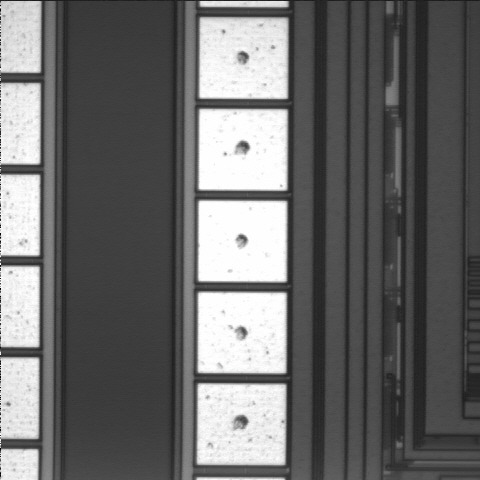pad: (198, 109, 288, 191), (199, 17, 288, 99), (197, 383, 286, 465), (198, 201, 287, 282), (198, 292, 287, 373)
